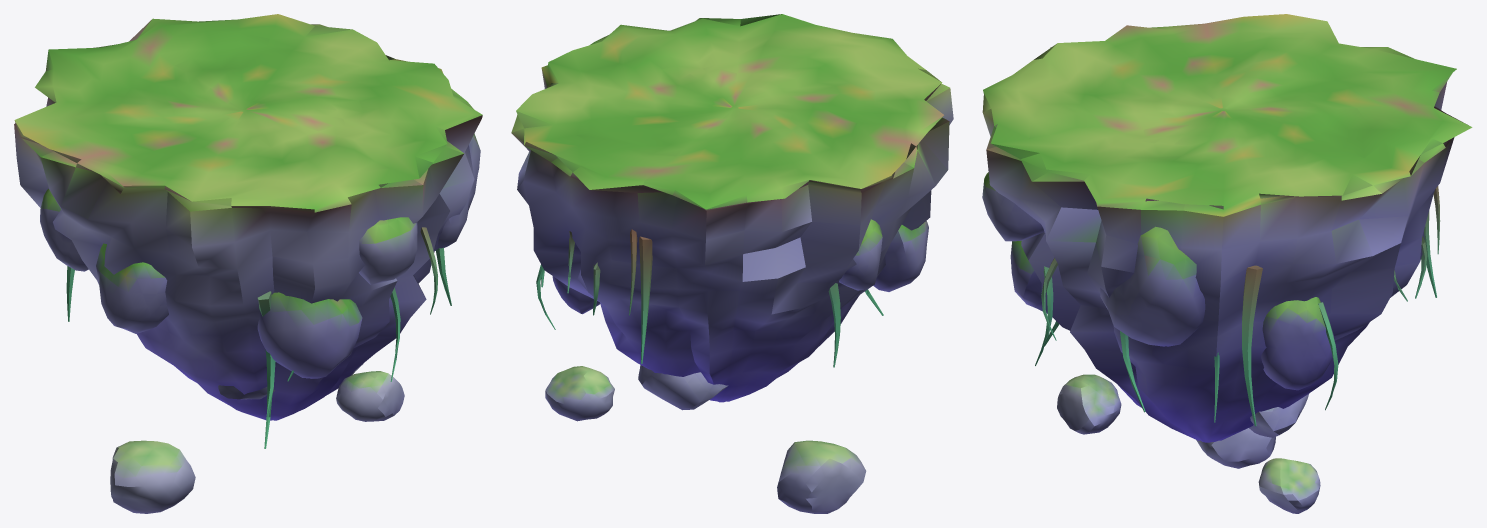
Rendered from verdant_island_26.glb.
The picture shows the model from 3 angles, left to right: view 1: azimuth 30°, elevation 25°; view 2: azimuth 150°, elevation 25°; view 3: azimuth 270°, elevation 25°; orthographic projection. The views are drawn at different scales.
Visible parts, largest first — view 1: verdant_island_26, Floater_0, Floater_2; view 2: verdant_island_26, Floater_0, Floater_1, Floater_4; view 3: verdant_island_26, Floater_2, Floater_1, Floater_0, Floater_4.
Part boxes in pixels (bbox=[...]): verdant_island_26: bbox=[14, 14, 482, 448]; Floater_0: bbox=[110, 440, 195, 513]; Floater_2: bbox=[336, 371, 404, 421]; verdant_island_26: bbox=[511, 14, 953, 402]; Floater_0: bbox=[777, 440, 866, 513]; Floater_1: bbox=[545, 366, 614, 421]; Floater_4: bbox=[638, 365, 728, 410]; verdant_island_26: bbox=[982, 14, 1472, 442]; Floater_2: bbox=[1057, 374, 1121, 434]; Floater_1: bbox=[1258, 458, 1320, 513]; Floater_0: bbox=[1196, 428, 1275, 468]; Floater_4: bbox=[1249, 394, 1308, 437].
Bounding box in the file's own units: 27.77 × 25.78 × 28.36.
